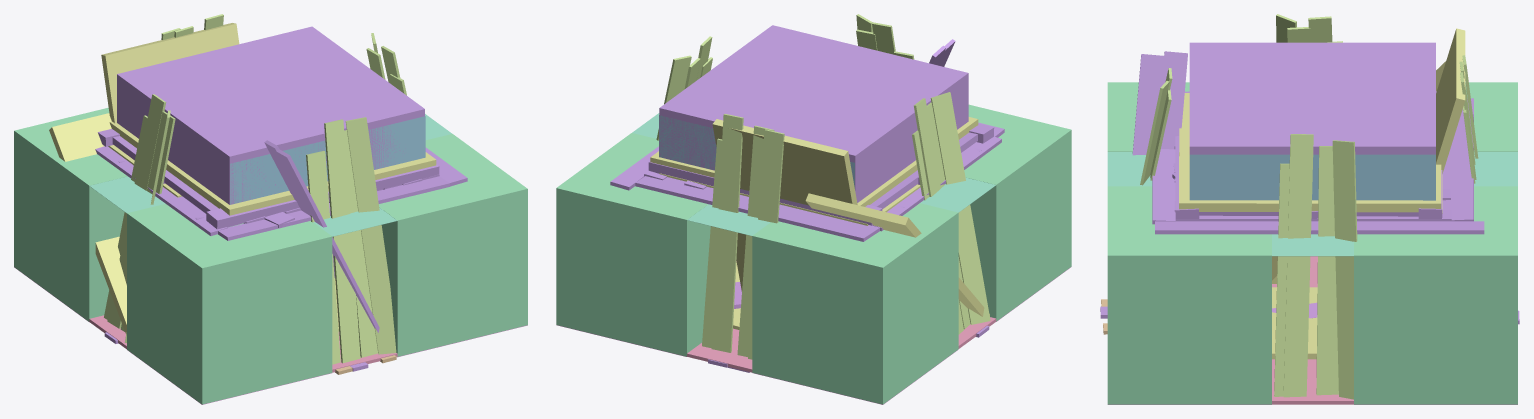
File: airraidshelter.glb
3 views of the same model, side by side, from view 1: azimuth 30°, elevation 25°; view 2: azimuth 150°, elevation 25°; view 3: azimuth 270°, elevation 25° (orthographic). The views are drawn at different scales.
Visible parts, largest first — view 1: S3|SM_HescoBarrier_Tall_Stage5_01a#4, S3|SM_HescoBarrier_Tall_Stage5_01a#7, S3|SM_HescoBarrier_Tall_Stage5_01a#6, S3|SM_HescoBarrier_Tall_Stage5_01a#5, S3|SM_HescoBarrier_Tall_Stage5_01a#10, S3|SM_HescoBarrier_Tall_Stage5_01a#11, S3|SM_HescoBarrier_Tall_Stage5_01a#0, S5|SM_HESCO_Stage5_01a#6, S4|SM_Wooden_Plank_03b#10, S4|SM_Wooden_Plank_03b#8, S5|SM_HESCO_Stage5_01a#8, S3|SM_AirRaidShelter_Sheet_Stage_01a#0 (+27 smaller); view 2: S3|SM_HescoBarrier_Tall_Stage5_01a#0, S3|SM_HescoBarrier_Tall_Stage5_01a#2, S3|SM_HescoBarrier_Tall_Stage5_01a#3, S3|SM_HescoBarrier_Tall_Stage5_01a#1, S3|SM_HescoBarrier_Tall_Stage5_01a#11, S3|SM_HescoBarrier_Tall_Stage5_01a#4, S3|SM_HescoBarrier_Tall_Stage5_01a#10, S3|SM_AirRaidShelter_Sheet_Stage_01a#0, S5|SM_HESCO_Stage5_01a#1, S4|SM_Wooden_Plank_03b#4, S5|SM_HESCO_Stage5_01a#8, S4|SM_Wooden_Plank_03b#11 (+28 smaller); view 3: S3|SM_HescoBarrier_Tall_Stage5_01a#6, S3|SM_HescoBarrier_Tall_Stage5_01a#3, S3|SM_HescoBarrier_Tall_Stage5_01a#9, S3|SM_HescoBarrier_Tall_Stage5_01a#8, S4|SM_Wooden_Plank_03b#2, S4|SM_Wooden_Plank_03b#6, S5|SM_AirRaidShelter_Stage5_01b#0, S4|SM_Wooden_Plank_03b#1, S4|SM_HESCO_Stage3_01a#2, S4|SM_HESCO_Stage3_01a#1, S4|SM_Wooden_Plank_03a#0, S5|SM_HESCO_Stage5_01a#2 (+34 smaller).
Boxes of the visible parts, left/top/right/bottom form: S3|SM_HescoBarrier_Tall_Stage5_01a#4: left=164, top=226, right=267, bottom=404; S3|SM_HescoBarrier_Tall_Stage5_01a#7: left=379, top=189, right=462, bottom=356; S3|SM_HescoBarrier_Tall_Stage5_01a#6: left=441, top=161, right=527, bottom=340; S3|SM_HescoBarrier_Tall_Stage5_01a#5: left=232, top=221, right=332, bottom=388; S3|SM_HescoBarrier_Tall_Stage5_01a#10: left=51, top=154, right=127, bottom=321; S3|SM_HescoBarrier_Tall_Stage5_01a#11: left=127, top=204, right=203, bottom=376; S3|SM_HescoBarrier_Tall_Stage5_01a#0: left=14, top=115, right=84, bottom=293; S5|SM_HESCO_Stage5_01a#6: left=192, top=113, right=294, bottom=204; S4|SM_Wooden_Plank_03b#10: left=345, top=117, right=396, bottom=354; S4|SM_Wooden_Plank_03b#8: left=324, top=119, right=360, bottom=363; S5|SM_HESCO_Stage5_01a#8: left=117, top=58, right=219, bottom=138; S3|SM_AirRaidShelter_Sheet_Stage_01a#0: left=101, top=23, right=239, bottom=123; S3|SM_HescoBarrier_Tall_Stage5_01a#0: left=817, top=231, right=920, bottom=404; S3|SM_HescoBarrier_Tall_Stage5_01a#2: left=621, top=188, right=710, bottom=356; S3|SM_HescoBarrier_Tall_Stage5_01a#3: left=556, top=160, right=642, bottom=340; S3|SM_HescoBarrier_Tall_Stage5_01a#1: left=752, top=221, right=838, bottom=388; S3|SM_HescoBarrier_Tall_Stage5_01a#11: left=964, top=148, right=1033, bottom=321; S3|SM_HescoBarrier_Tall_Stage5_01a#4: left=990, top=114, right=1071, bottom=293; S3|SM_HescoBarrier_Tall_Stage5_01a#10: left=882, top=203, right=958, bottom=376; S3|SM_AirRaidShelter_Sheet_Stage_01a#0: left=712, top=119, right=857, bottom=291; S5|SM_HESCO_Stage5_01a#1: left=659, top=80, right=761, bottom=170; S4|SM_Wooden_Plank_03b#4: left=711, top=114, right=743, bottom=352; S5|SM_HESCO_Stage5_01a#8: left=793, top=112, right=893, bottom=202; S4|SM_Wooden_Plank_03b#11: left=930, top=92, right=990, bottom=324; S3|SM_HescoBarrier_Tall_Stage5_01a#6: left=1107, top=221, right=1189, bottom=404; S3|SM_HescoBarrier_Tall_Stage5_01a#3: left=1436, top=221, right=1517, bottom=404; S3|SM_HescoBarrier_Tall_Stage5_01a#9: left=1189, top=234, right=1271, bottom=404; S3|SM_HescoBarrier_Tall_Stage5_01a#8: left=1354, top=234, right=1435, bottom=404; S4|SM_Wooden_Plank_03b#2: left=1283, top=134, right=1313, bottom=397; S4|SM_Wooden_Plank_03b#6: left=1332, top=140, right=1357, bottom=399; S5|SM_AirRaidShelter_Stage5_01b#0: left=1107, top=152, right=1517, bottom=256; S4|SM_Wooden_Plank_03b#1: left=1316, top=146, right=1338, bottom=395; S4|SM_HESCO_Stage3_01a#2: left=1189, top=154, right=1271, bottom=200; S4|SM_HESCO_Stage3_01a#1: left=1355, top=154, right=1435, bottom=200; S4|SM_Wooden_Plank_03a#0: left=1155, top=221, right=1484, bottom=234; S5|SM_HESCO_Stage5_01a#2: left=1189, top=112, right=1271, bottom=154.
Size of the model in its own units: 7.56 by 5.05 by 7.66.
